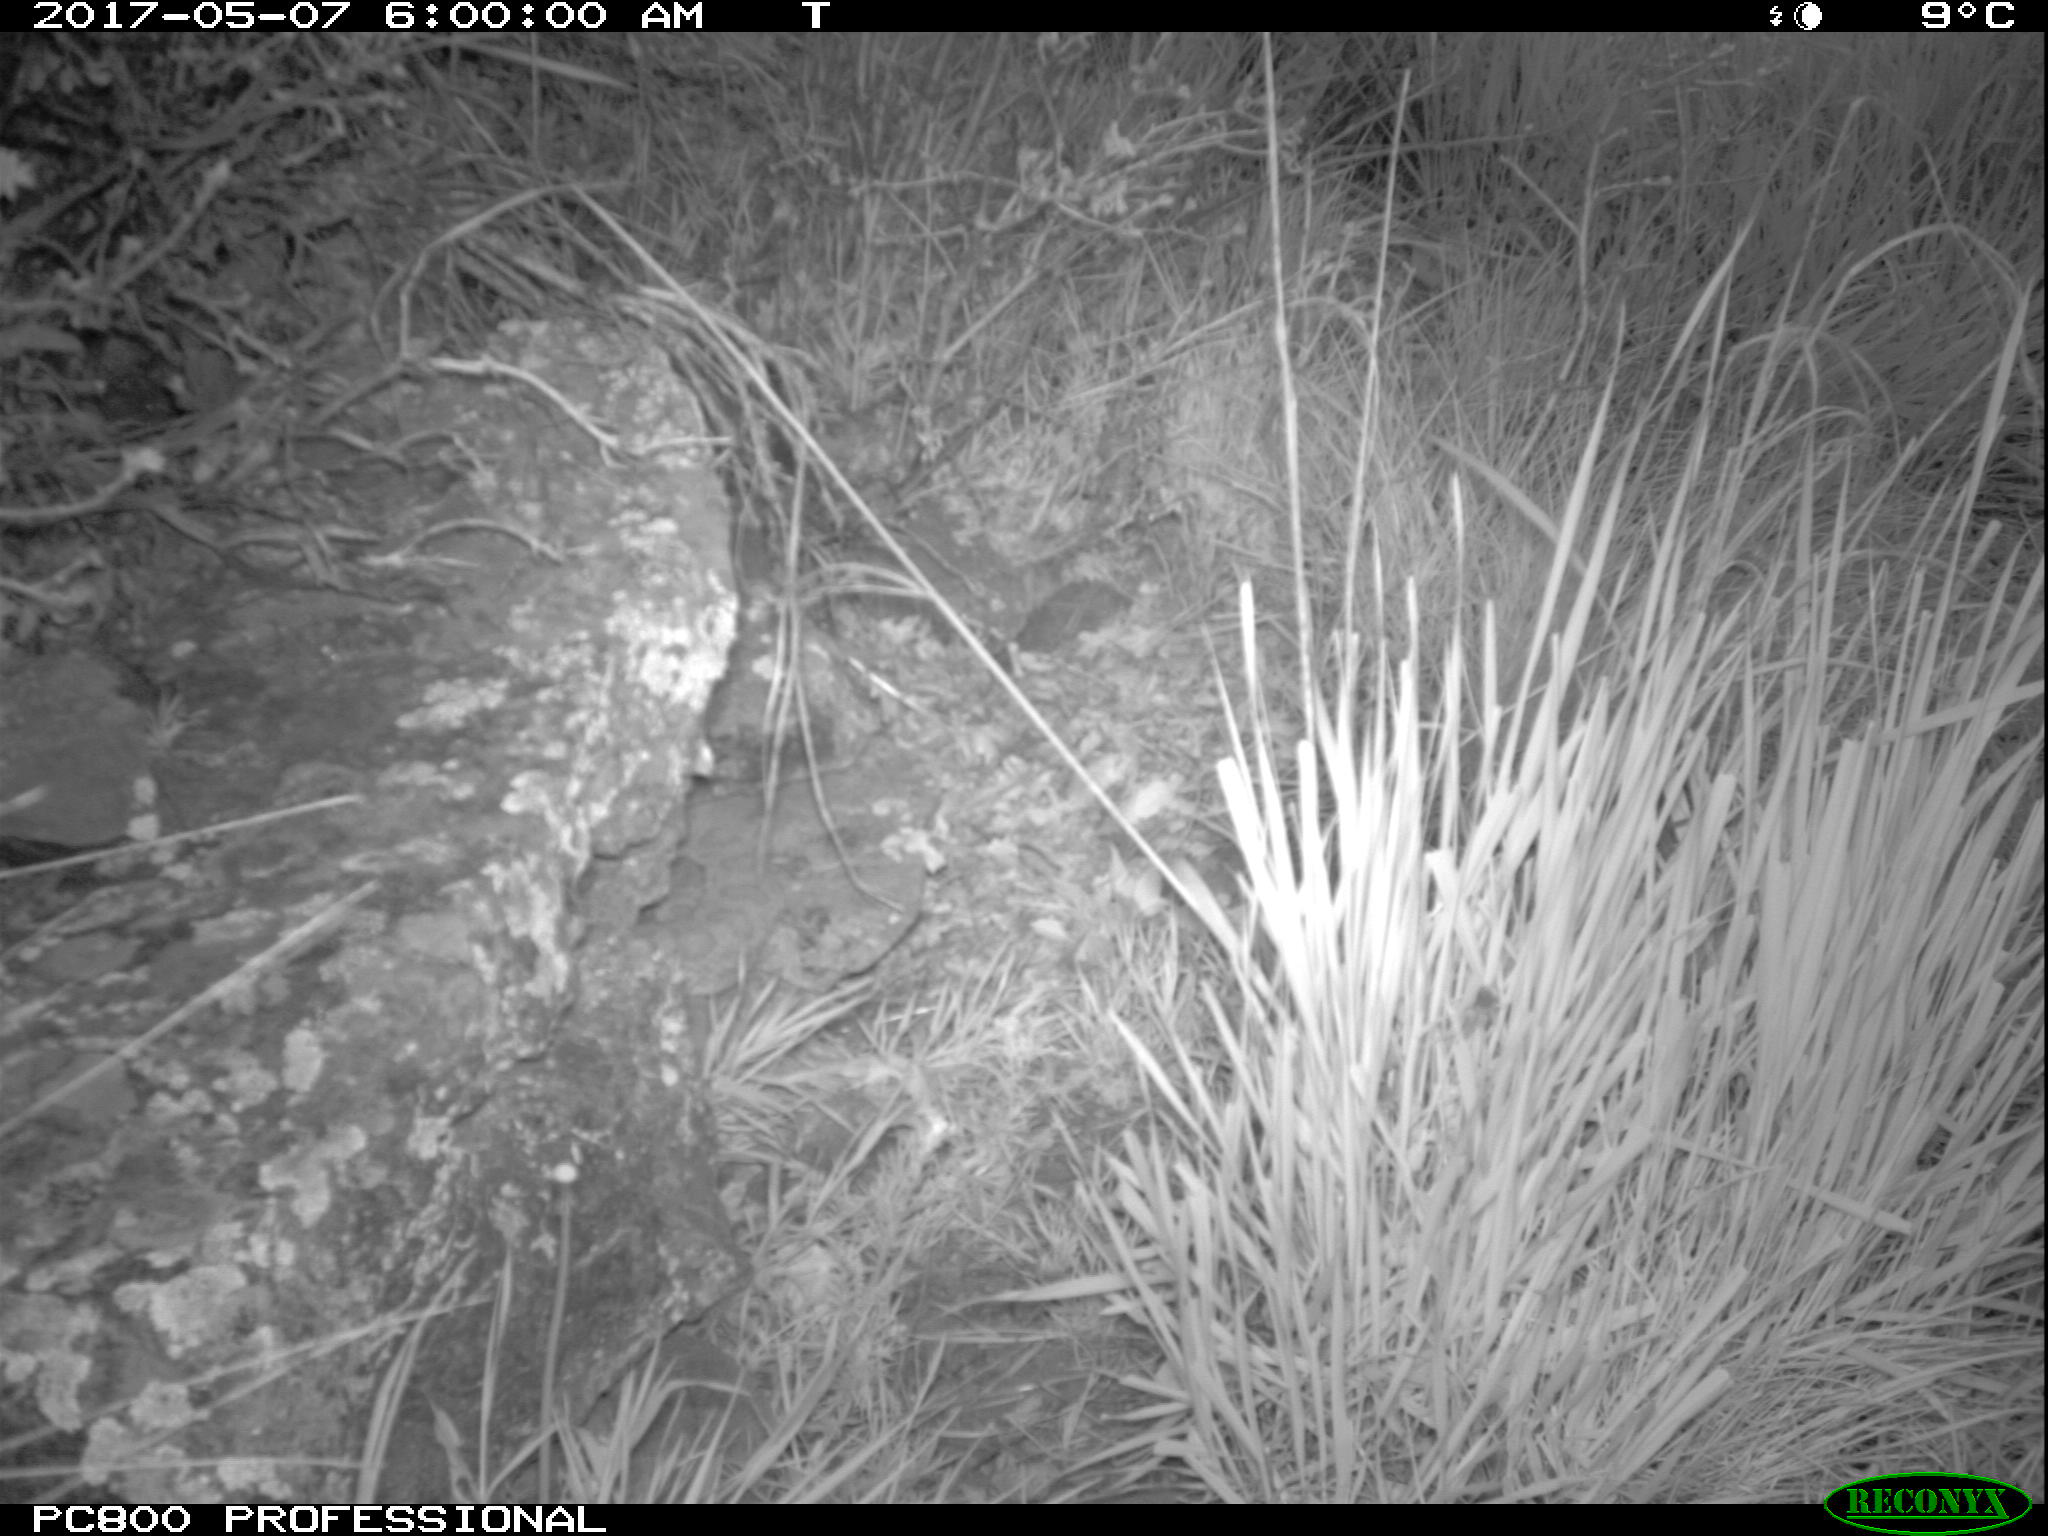snake: (676, 818, 805, 975)
